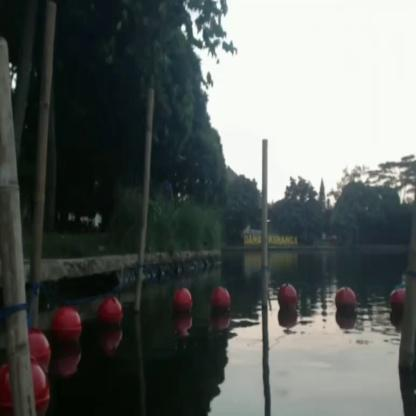red_buoy: (52, 309, 80, 349), (31, 366, 48, 412), (29, 330, 49, 367), (334, 286, 356, 316), (211, 286, 231, 318), (277, 284, 297, 316), (174, 286, 192, 320), (102, 298, 121, 330), (388, 286, 404, 318)
